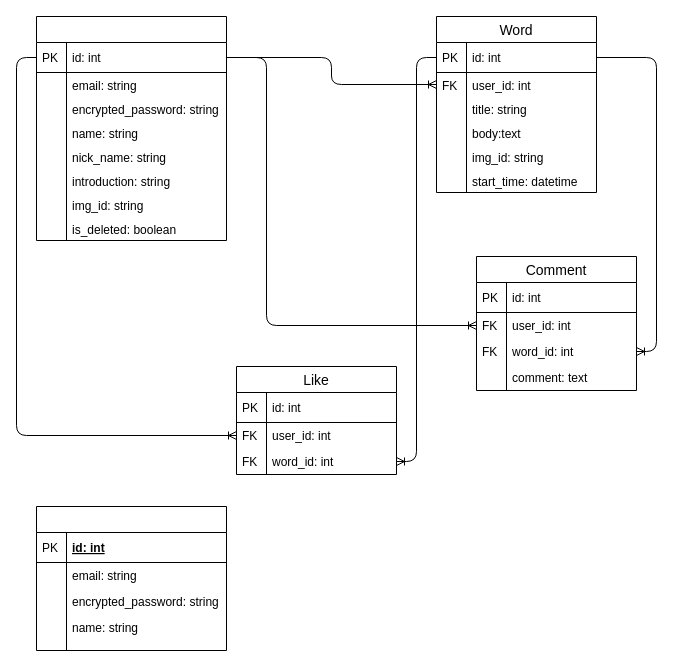
Image size: 673x667. Some labels were removed from this diagram. The box of each missing label's shape, as (x1, y1, x2, y2) in pixels:
Admin: (36, 506, 226, 650)
User: (36, 16, 226, 240)
